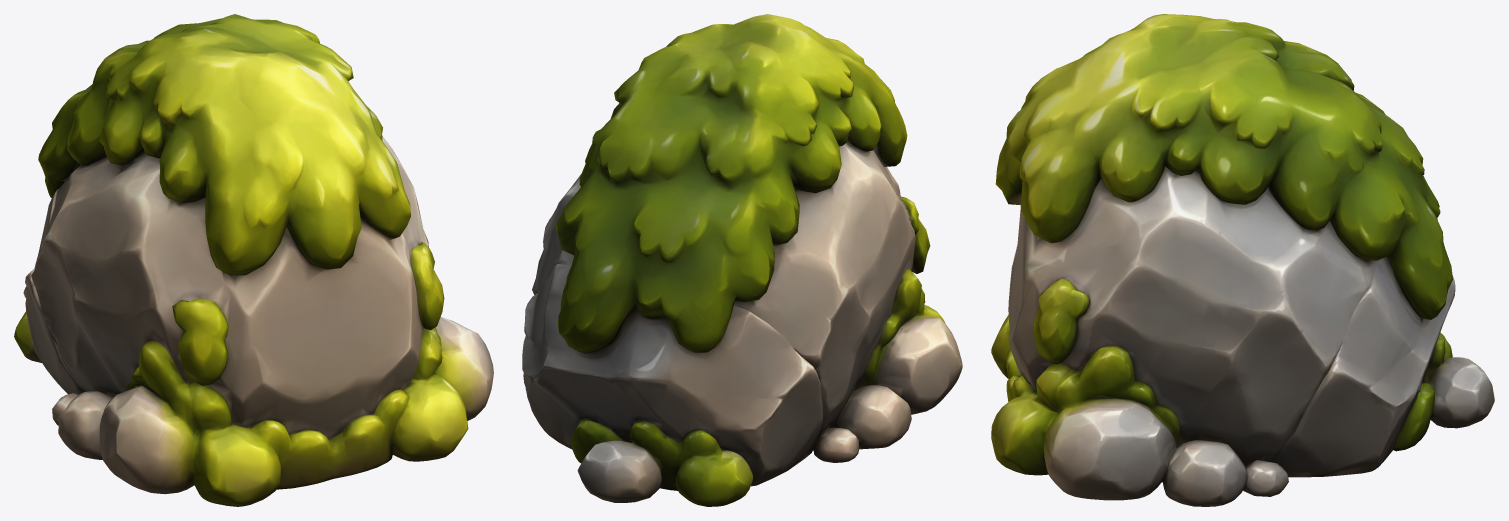
File: Kit_W_MossRock_HD_src.glb
3 views of the same model, side by side, from view 1: azimuth 30°, elevation 25°; view 2: azimuth 150°, elevation 25°; view 3: azimuth 270°, elevation 25° (orthographic). The views are drawn at different scales.
Visible parts, largest first — view 1: tripo_node_b6eca198-eceb-4039-8c76-89446fe8115a; view 2: tripo_node_b6eca198-eceb-4039-8c76-89446fe8115a; view 3: tripo_node_b6eca198-eceb-4039-8c76-89446fe8115a.
Part boxes in pixels (x1,y1,x2,y2): tripo_node_b6eca198-eceb-4039-8c76-89446fe8115a: [14, 14, 493, 506]; tripo_node_b6eca198-eceb-4039-8c76-89446fe8115a: [522, 14, 962, 506]; tripo_node_b6eca198-eceb-4039-8c76-89446fe8115a: [991, 14, 1494, 506].
Bounding box in the file's own units: 0.8441 × 0.8224 × 0.9809.
1 material, 1 textured.
